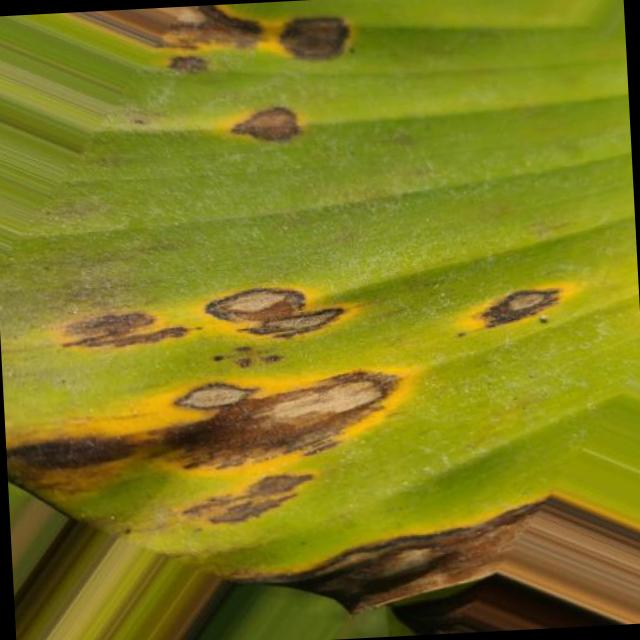Banana_Yellow_Sigatoka: (186, 354, 473, 562), (47, 0, 370, 83), (194, 250, 364, 366), (54, 292, 194, 365), (474, 266, 596, 340), (222, 82, 326, 158)
